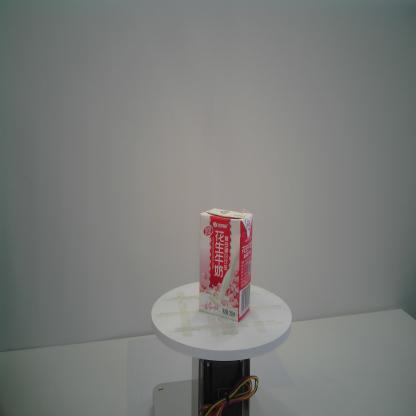Milk: (198, 206, 254, 322)
